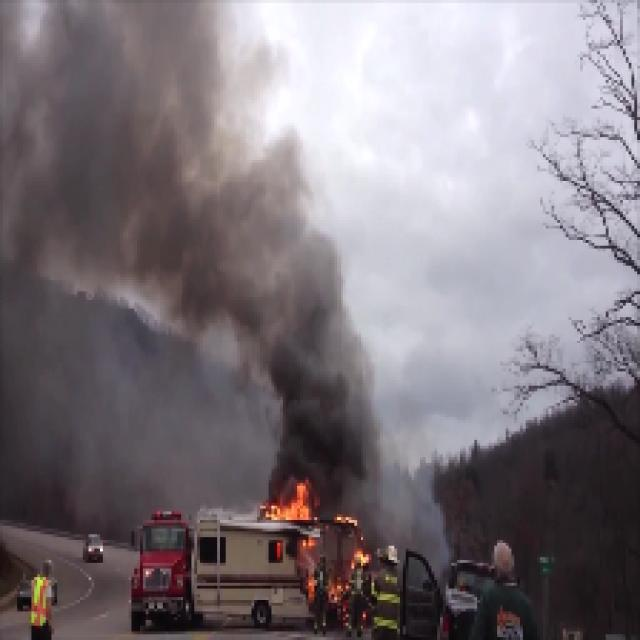smoke: (90, 74, 192, 276), (270, 335, 366, 478), (198, 203, 292, 322)
